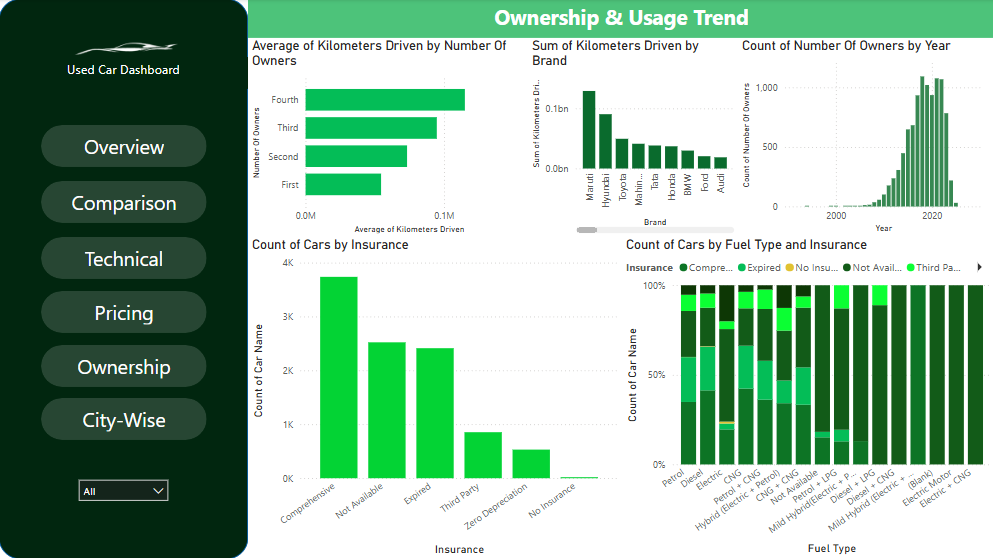

What the dashboard file says about the page in this screenshot:
{"tool":"powerbi","page":{"name":"Ownership","canvas":[1280,720],"ordinal":5},"visuals":[{"type":"shape","box":[0,0,320,719.7],"z":0},{"type":"actionButton","box":[54,161.9,213.3,54],"z":1000},{"type":"actionButton","box":[54,233.9,213.3,54],"z":2000},{"type":"actionButton","box":[54,305.9,213.3,54],"z":3000},{"type":"actionButton","box":[54,375.3,213.3,54],"z":4000},{"type":"actionButton","box":[54,444.7,213.3,54],"z":5000},{"type":"actionButton","box":[54,512.8,213.3,54],"z":6000},{"type":"textbox","box":[320,0,960,50.1],"z":7000},{"type":"barChart","fields":{"Category":["Worksheet.Number Of Owners"],"Y":["Avg(Worksheet.Kilometers Driven)"]},"box":[320,50.1,359.8,255.7],"z":8000},{"type":"columnChart","title":"Count of Cars by Insurance","fields":{"Category":["Worksheet.Insurance"],"Y":["CountNonNull(Worksheet.Car Name)"]},"box":[320,306,481,414],"z":9000},{"type":"lineStackedColumnComboChart","fields":{"Category":["Worksheet.Manufacturing Year.Variation.Date Hierarchy.Year"],"Y":["CountNonNull(Worksheet.Number Of Owners)"]},"box":[949.7,50.1,330.3,255.7],"z":10000},{"type":"slicer","title":"City","fields":{"Values":["Worksheet.City"]},"box":[92.5,607.9,134.9,48.8],"z":11000},{"type":"hundredPercentStackedColumnChart","title":"Count of Cars by Fuel Type and Insurance","fields":{"Category":["Worksheet.Fuel Type"],"Series":["Worksheet.Insurance"],"Y":["CountNonNull(Worksheet.Car Name)"]},"box":[800.6,305.9,479.4,413.8],"z":12000},{"type":"columnChart","fields":{"Y":["Sum(Worksheet.Kilometers Driven)"],"Category":["Worksheet.Brand"]},"box":[679.8,50.1,269.9,255.7],"z":13000},{"type":"image","box":[0,0,320,125.9],"z":13001},{"type":"textbox","box":[0,74.5,320,41.1],"z":13002}]}

Visuals, with their boxes in screenshot pixels (x1, y1, x2, y2), scaled from the page's 1280x720 canvas onto the 993x558 screenshot:
shape: {"left": 0, "top": 0, "right": 248, "bottom": 557}
actionButton: {"left": 42, "top": 125, "right": 207, "bottom": 167}
actionButton: {"left": 42, "top": 181, "right": 207, "bottom": 223}
actionButton: {"left": 42, "top": 237, "right": 207, "bottom": 279}
actionButton: {"left": 42, "top": 291, "right": 207, "bottom": 333}
actionButton: {"left": 42, "top": 345, "right": 207, "bottom": 386}
actionButton: {"left": 42, "top": 397, "right": 207, "bottom": 439}
textbox: {"left": 248, "top": 0, "right": 992, "bottom": 39}
barChart - Worksheet.Number Of Owners x Avg(Worksheet.Kilometers Driven): {"left": 248, "top": 39, "right": 527, "bottom": 237}
"Count of Cars by Insurance" columnChart: {"left": 248, "top": 237, "right": 621, "bottom": 557}
lineStackedColumnComboChart - Worksheet.Manufacturing Year.Variation.Date Hierarchy.Year x CountNonNull(Worksheet.Number Of Owners): {"left": 737, "top": 39, "right": 992, "bottom": 237}
"City" slicer: {"left": 72, "top": 471, "right": 176, "bottom": 509}
"Count of Cars by Fuel Type and Insurance" hundredPercentStackedColumnChart: {"left": 621, "top": 237, "right": 992, "bottom": 557}
columnChart - Sum(Worksheet.Kilometers Driven) x Worksheet.Brand: {"left": 527, "top": 39, "right": 737, "bottom": 237}
image: {"left": 0, "top": 0, "right": 248, "bottom": 98}
textbox: {"left": 0, "top": 58, "right": 248, "bottom": 90}
